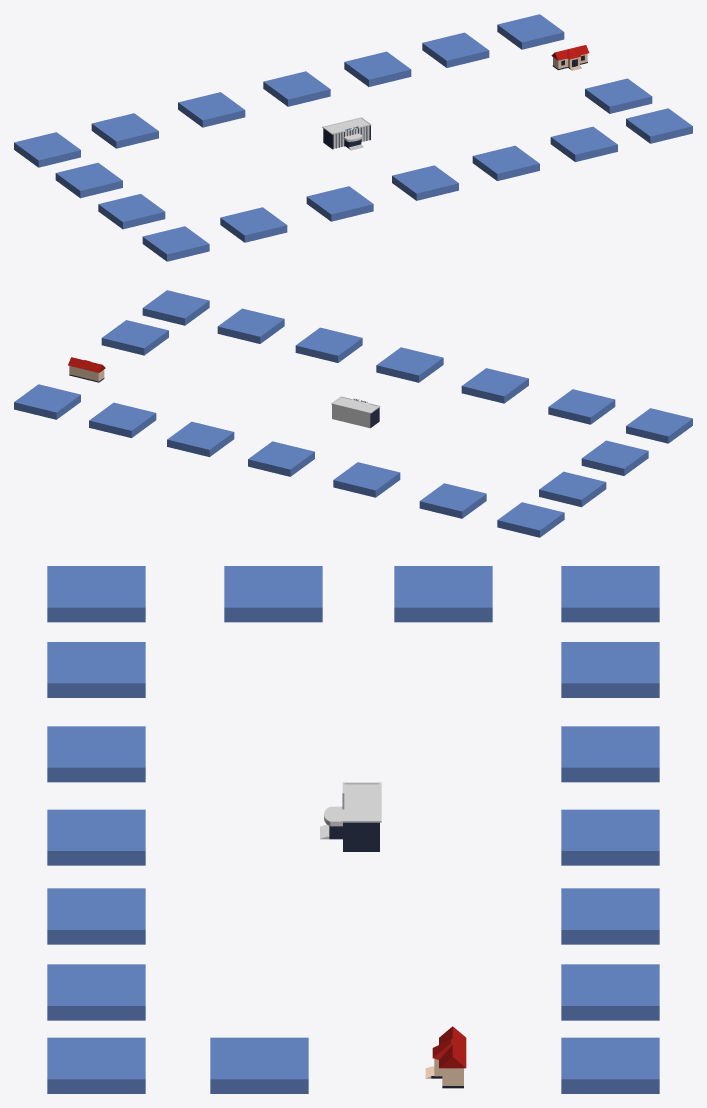
File: view.glb
3 views of the same model, one above another, from view 1: azimuth 30°, elevation 25°; view 2: azimuth 150°, elevation 25°; view 3: azimuth 270°, elevation 25° (orthographic). The views are drawn at different scales.
Parts seen in each view (by area): view 1: atb, sharqiy koni, tms, 1-sonli autokorxona, ISGTvaKS, mfkl, NO‘AvaAML, tvanss, tys, beb, daugiztau, ihqo (+7 smaller); view 2: ejtu, gmz3, tvanss, tys, ISGTvaKS, mfkl, mmtb, NO‘AvaAML, sharqiy koni, tkjts, 1-sonli autokorxona, tqu (+7 smaller); view 3: atb, beb, daugiztau, ejtu, ihqo, ISGTvaKS, mfkl, mmtb, sharqiy koni, tkjts, tms, tqu (+7 smaller).
Boxes of the visible parts, left/top/right/bottom form: atb: left=263, top=71, right=330, bottom=106; sharqiy koni: left=422, top=32, right=489, bottom=67; tms: left=142, top=226, right=209, bottom=261; 1-sonli autokorxona: left=91, top=113, right=158, bottom=148; ISGTvaKS: left=55, top=162, right=122, bottom=198; mfkl: left=306, top=186, right=373, bottom=221; NO‘AvaAML: left=220, top=207, right=287, bottom=242; tvanss: left=178, top=92, right=245, bottom=127; tys: left=550, top=126, right=617, bottom=161; beb: left=585, top=78, right=652, bottom=113; daugiztau: left=497, top=14, right=564, bottom=49; ihqo: left=472, top=145, right=539, bottom=180; ejtu: left=142, top=290, right=209, bottom=325; gmz3: left=497, top=502, right=564, bottom=537; tvanss: left=333, top=462, right=400, bottom=497; tys: left=217, top=308, right=284, bottom=343; ISGTvaKS: left=539, top=471, right=606, bottom=507; mfkl: left=461, top=368, right=528, bottom=403; mmtb: left=376, top=347, right=443, bottom=382; NO‘AvaAML: left=548, top=389, right=615, bottom=424; sharqiy koni: left=89, top=402, right=156, bottom=437; tkjts: left=581, top=440, right=648, bottom=475; 1-sonli autokorxona: left=419, top=483, right=486, bottom=518; tqu: left=167, top=421, right=234, bottom=456; atb: left=561, top=809, right=659, bottom=865; beb: left=210, top=1037, right=308, bottom=1093; daugiztau: left=561, top=1037, right=659, bottom=1093; ejtu: left=47, top=1037, right=145, bottom=1093; ihqo: left=47, top=888, right=145, bottom=944; ISGTvaKS: left=394, top=566, right=492, bottom=622; mfkl: left=47, top=726, right=145, bottom=782; mmtb: left=47, top=809, right=145, bottom=865; sharqiy koni: left=561, top=964, right=659, bottom=1020; tkjts: left=224, top=566, right=322, bottom=622; tms: left=47, top=566, right=145, bottom=622; tqu: left=561, top=888, right=659, bottom=944.
Size of what is drawn, in the model's own units: 151 by 4.63 by 76.04.
